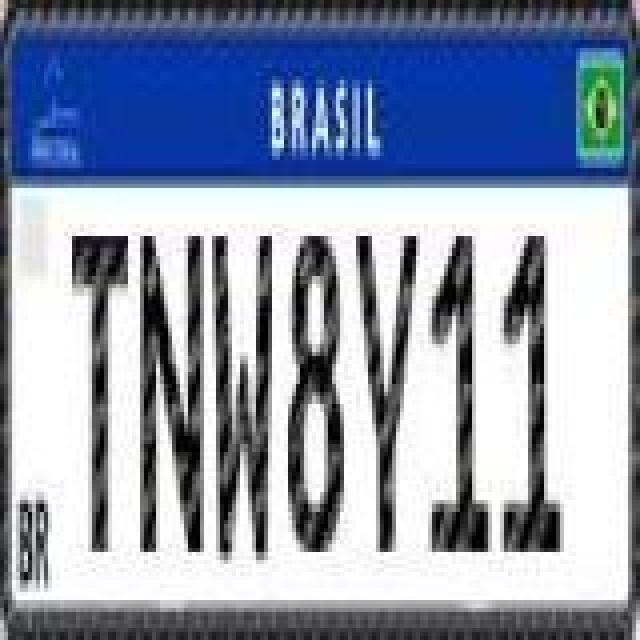1: (428, 224, 492, 560), (500, 230, 564, 554)
8: (284, 230, 348, 554)
N: (138, 224, 206, 560)
T: (68, 230, 132, 554)
W: (206, 220, 274, 564)
Y: (356, 220, 420, 556)
